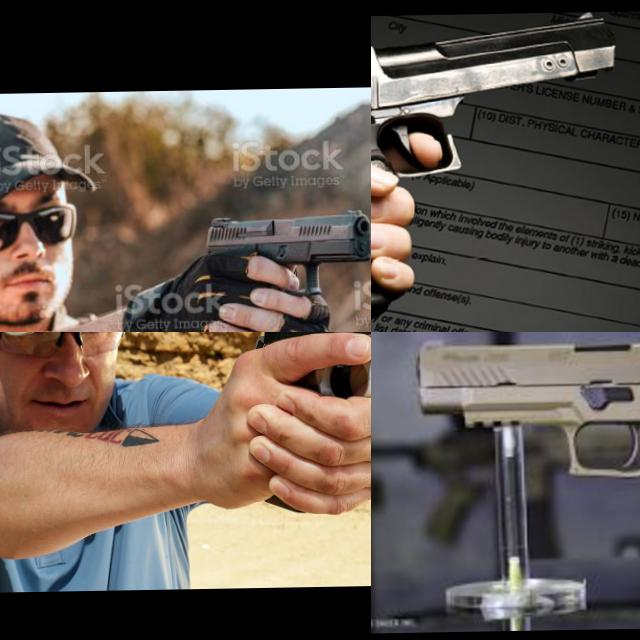handgun: (371, 11, 624, 332), (410, 332, 640, 609), (196, 206, 371, 300), (250, 332, 371, 404)
